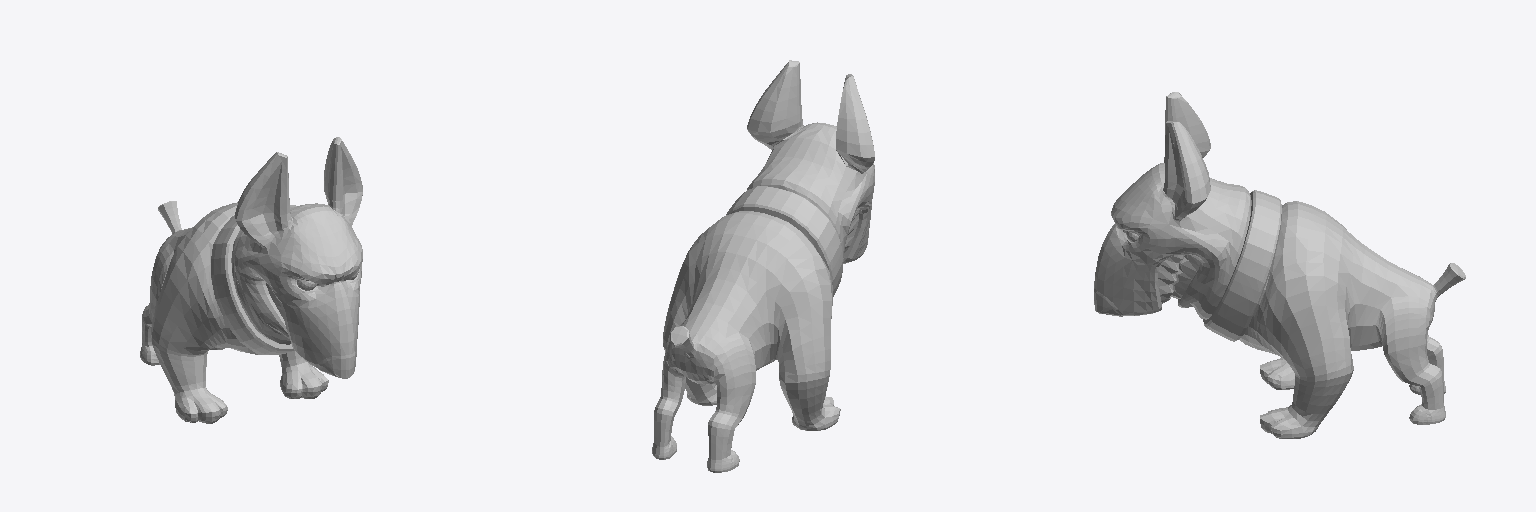
File: dog.obj
3 renders of one model, left to right at view 1: azimuth 30°, elevation 25°; view 2: azimuth 150°, elevation 25°; view 3: azimuth 270°, elevation 25°, orthographic.
Parts seen in each view (by area): view 1: Dog_Dog_01_0; view 2: Dog_Dog_01_0; view 3: Dog_Dog_01_0.
Part boxes in pixels (x1,y1,x2,y2): Dog_Dog_01_0: (140,137,362,423); Dog_Dog_01_0: (652,60,874,472); Dog_Dog_01_0: (1094,92,1465,438).
Size of the model in its own units: 0.4155 by 0.7341 by 0.8309.